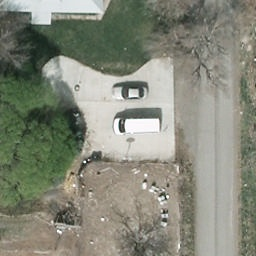car: (112, 85, 152, 102)
van: (111, 117, 163, 134)
